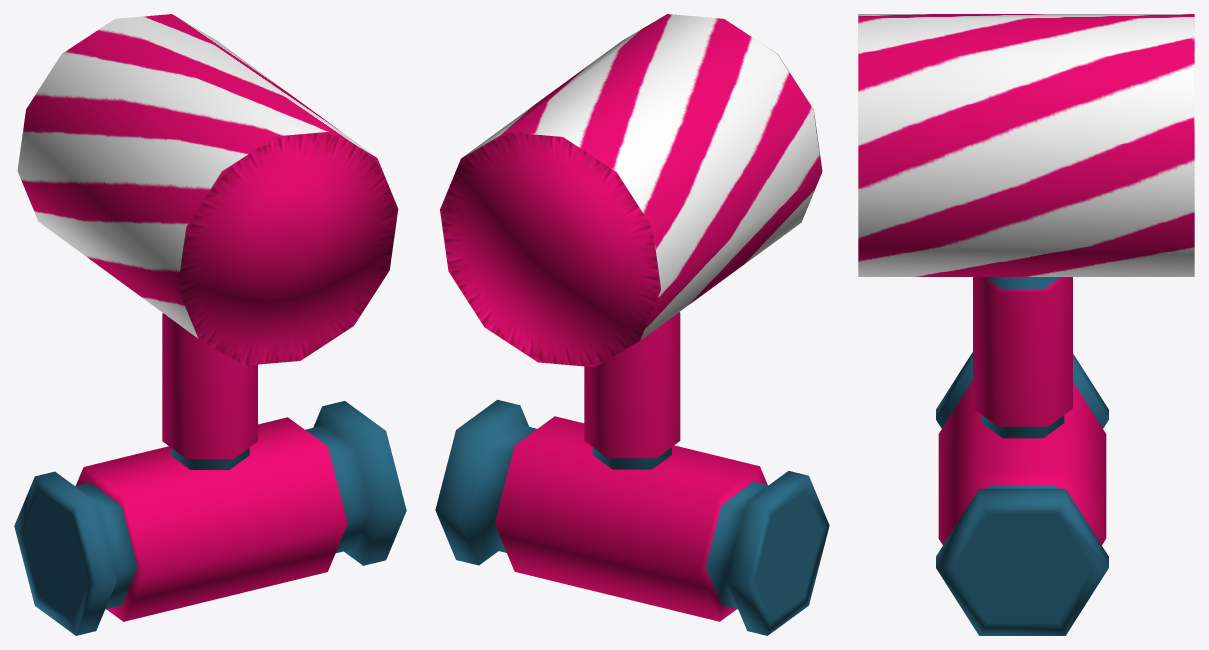
Rendered from OBS0110006.fbx.
The picture shows the model from 3 angles, left to right: view 1: azimuth 30°, elevation 25°; view 2: azimuth 150°, elevation 25°; view 3: azimuth 270°, elevation 25°; orthographic projection. The views are drawn at different scales.
Visible parts, largest first — view 1: smOBS0110006; view 2: smOBS0110006; view 3: smOBS0110006.
Boxes of the visible parts, bbox=[...] form: smOBS0110006: bbox=[14, 14, 406, 635]; smOBS0110006: bbox=[435, 14, 829, 635]; smOBS0110006: bbox=[858, 14, 1194, 635].
Bounding box in the file's own units: 152 × 237 × 136.
Materials: 1 (1 with a texture image).
